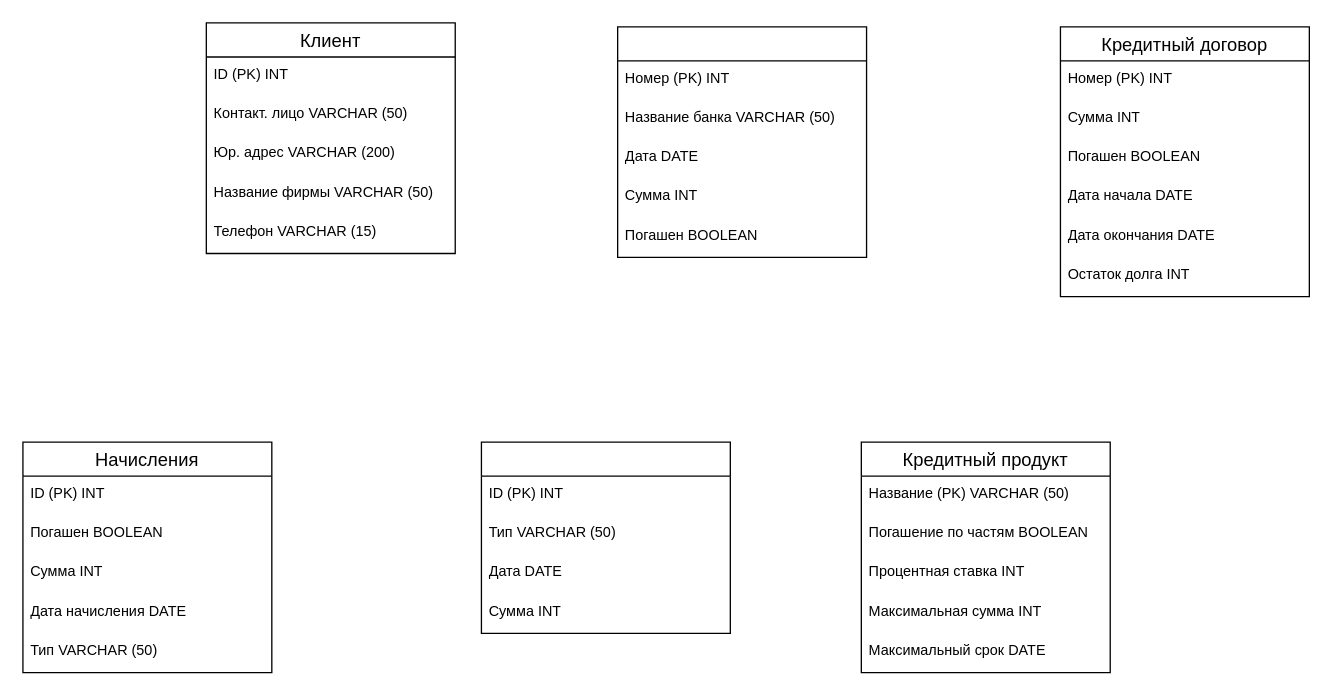
This 1332x700 diagram has some shape labels left out. Each missing label, with the box of its shape:
Кредитная история: (616, 26, 867, 257)
Оплата: (480, 441, 730, 633)
